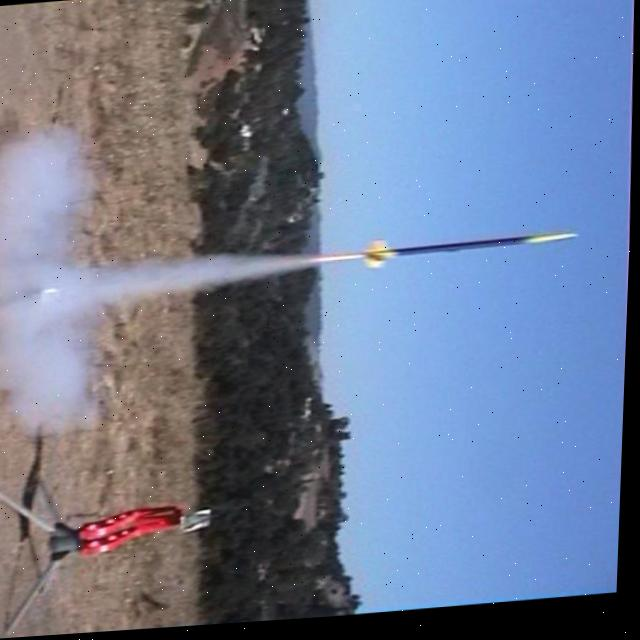missile: (342, 225, 582, 287)
